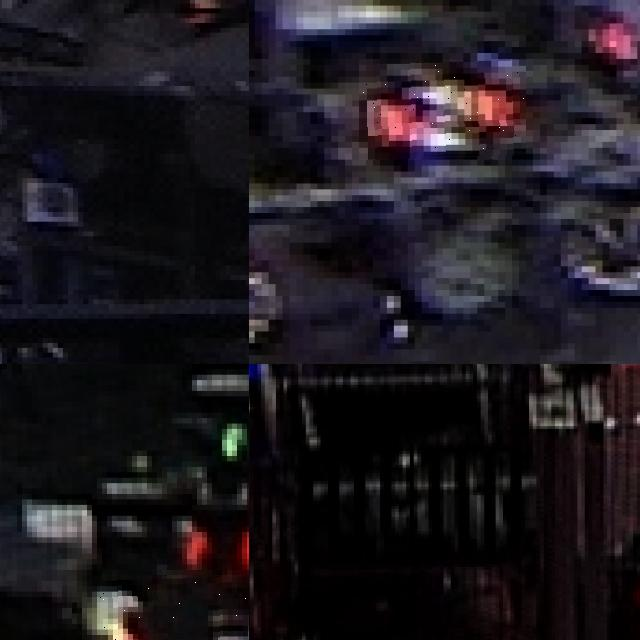R2: (359, 59, 526, 160)
R3: (99, 575, 249, 640)
